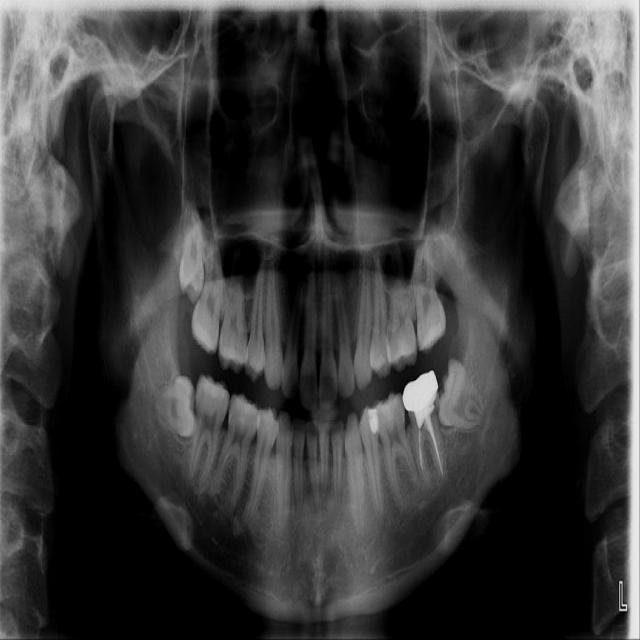Crown: (402, 366, 439, 420)
Filling: (415, 404, 431, 429), (368, 409, 377, 434)
Root Canal Treatment: (429, 423, 442, 472), (419, 427, 424, 475)
impacted tooth: (438, 359, 488, 428), (148, 376, 198, 438), (179, 207, 207, 297)
